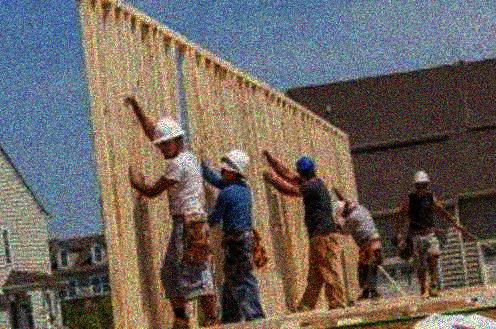helmet: (151, 115, 188, 159), (218, 148, 250, 182), (295, 156, 317, 180), (411, 169, 430, 192), (329, 199, 350, 219)
